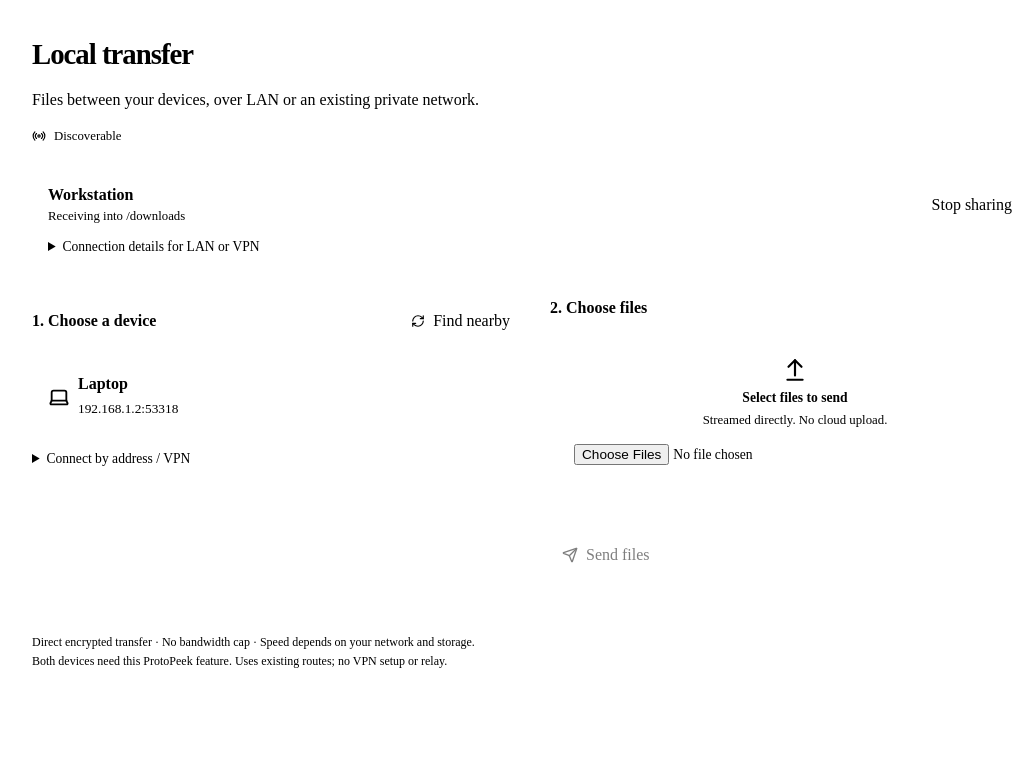
Scenario: stays Offline after Stop aborts an in-flight poll and ignores its late snapshot
Click the button "Stop sharing" at coordinates (972, 205), box [920,183,1024,227]
Wait 12000 ms
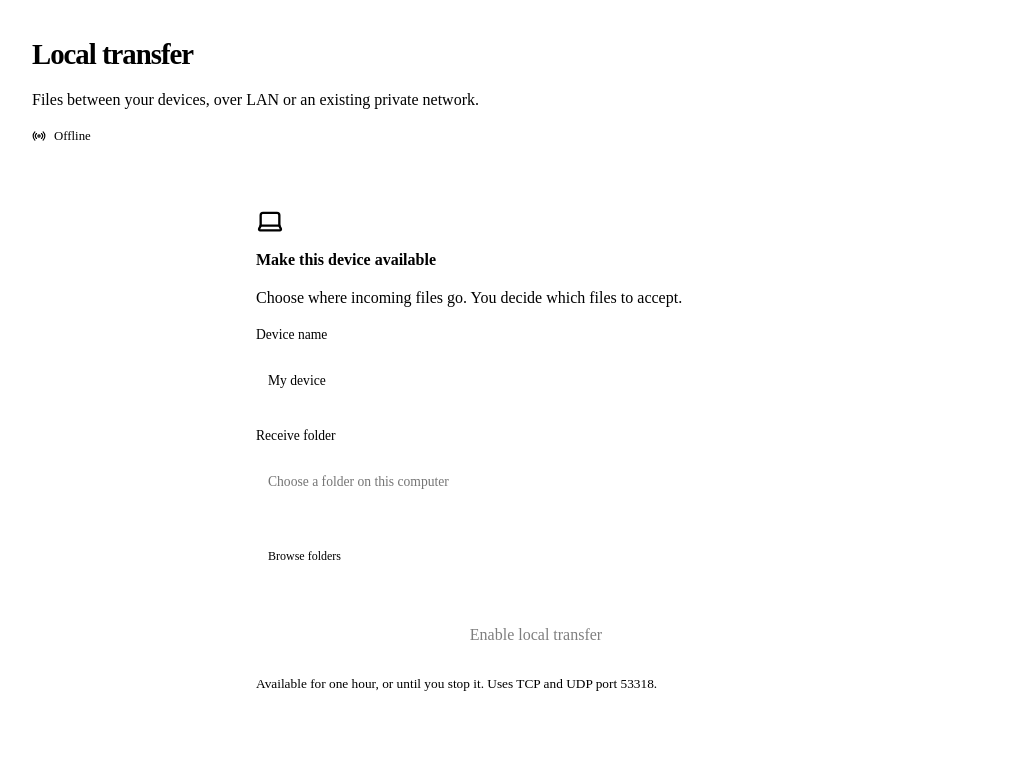
Expected: the button "Enable local transfer" is disabled, [256,613,816,657]
Expected: the text "Offline" is shown, [32,129,91,144]
